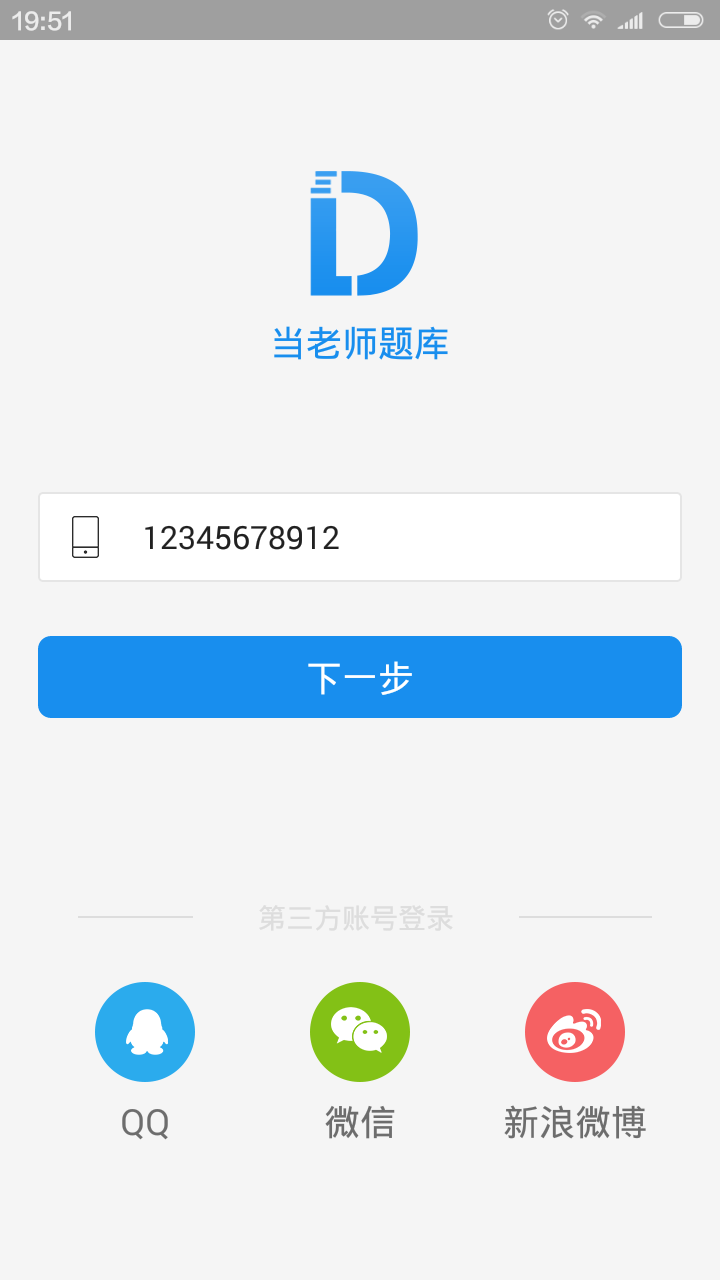imgbutton: (283, 961, 441, 1094), (74, 969, 210, 1092), (508, 975, 651, 1090)
imgview: (258, 156, 467, 371)
textview: (31, 479, 704, 594)
